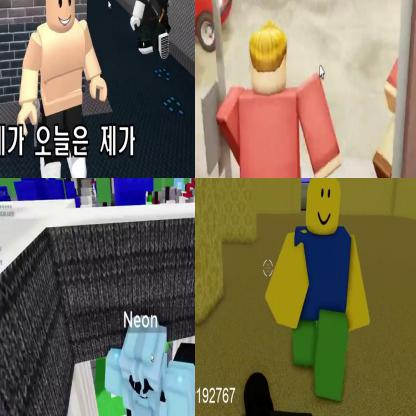Roblox-Avatar: (266, 179, 372, 404), (217, 21, 343, 178), (18, 1, 109, 178), (106, 316, 195, 416), (131, 1, 174, 61)
